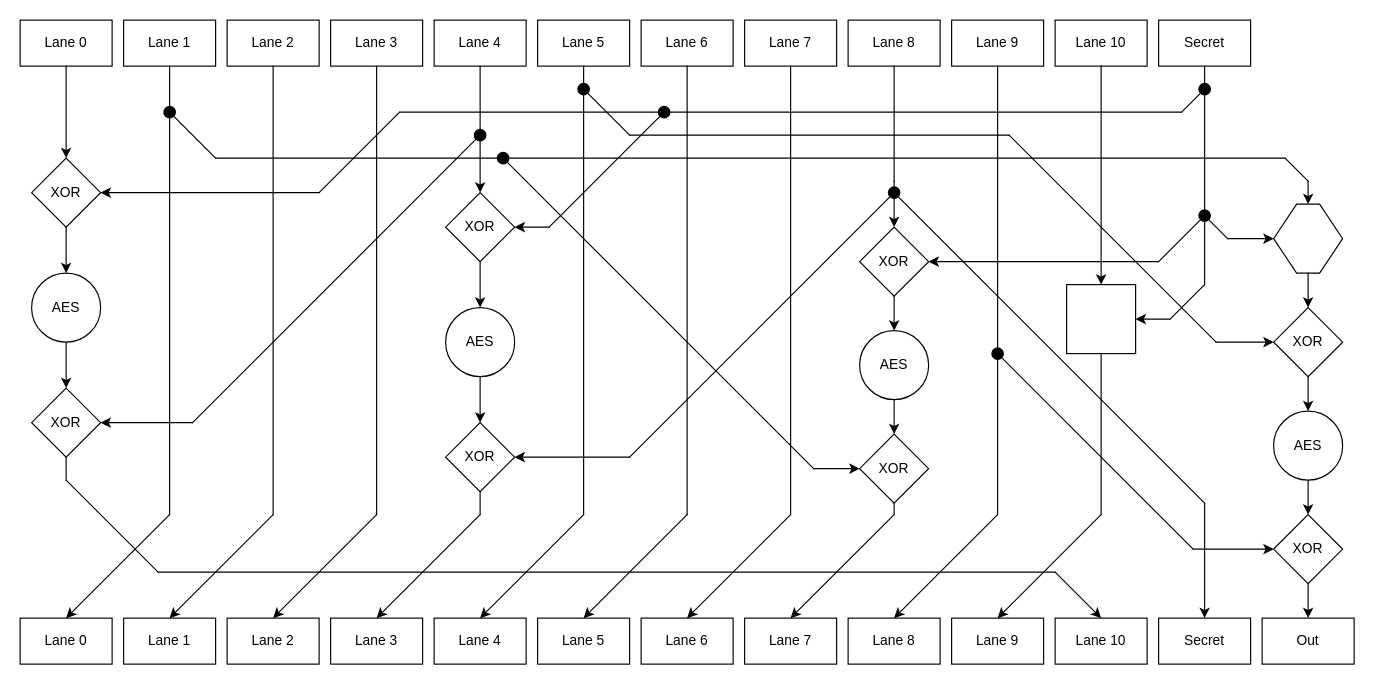
This 1374x684 diagram has some shape labels left out. Each missing label, with the centre of its shape:
"ADD" goes at pixel 1100 318.
"AND" goes at pixel 1307 238.
